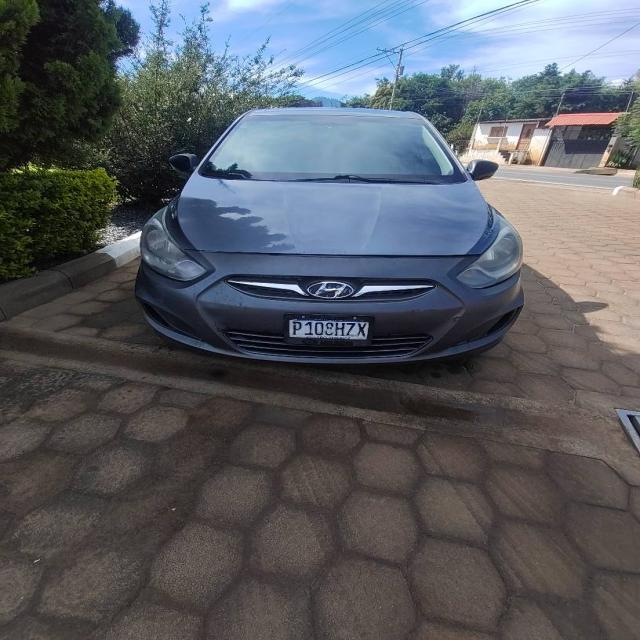Placas: (285, 311, 371, 346)
